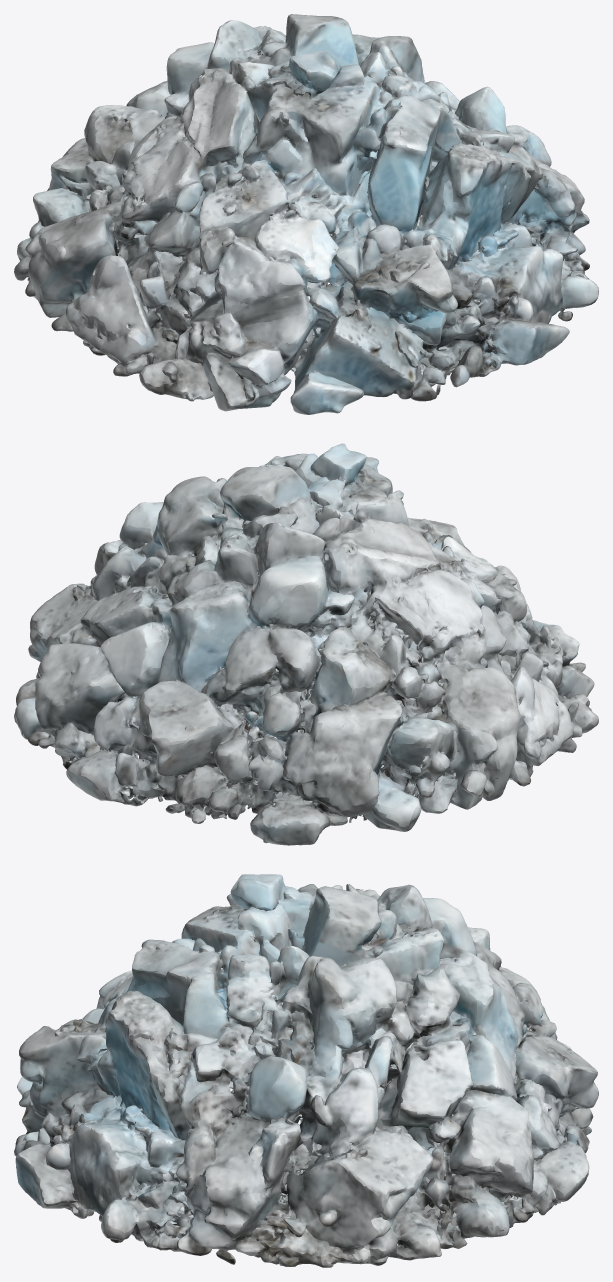
Rendered from lux3d-6369583-1.glb.
3 views of the same model, one above another, from view 1: azimuth 30°, elevation 25°; view 2: azimuth 150°, elevation 25°; view 3: azimuth 270°, elevation 25° (orthographic). The views are drawn at different scales.
Parts seen in each view (by area): view 1: geometry_0; view 2: geometry_0; view 3: geometry_0.
Boxes of the visible parts, left/top/right/bottom form: geometry_0: left=14, top=14, right=598, bottom=414; geometry_0: left=14, top=443, right=598, bottom=845; geometry_0: left=14, top=874, right=598, bottom=1267.
Size of the model in its own units: 0.8 by 0.4324 by 0.808.
1 material, 1 textured.
